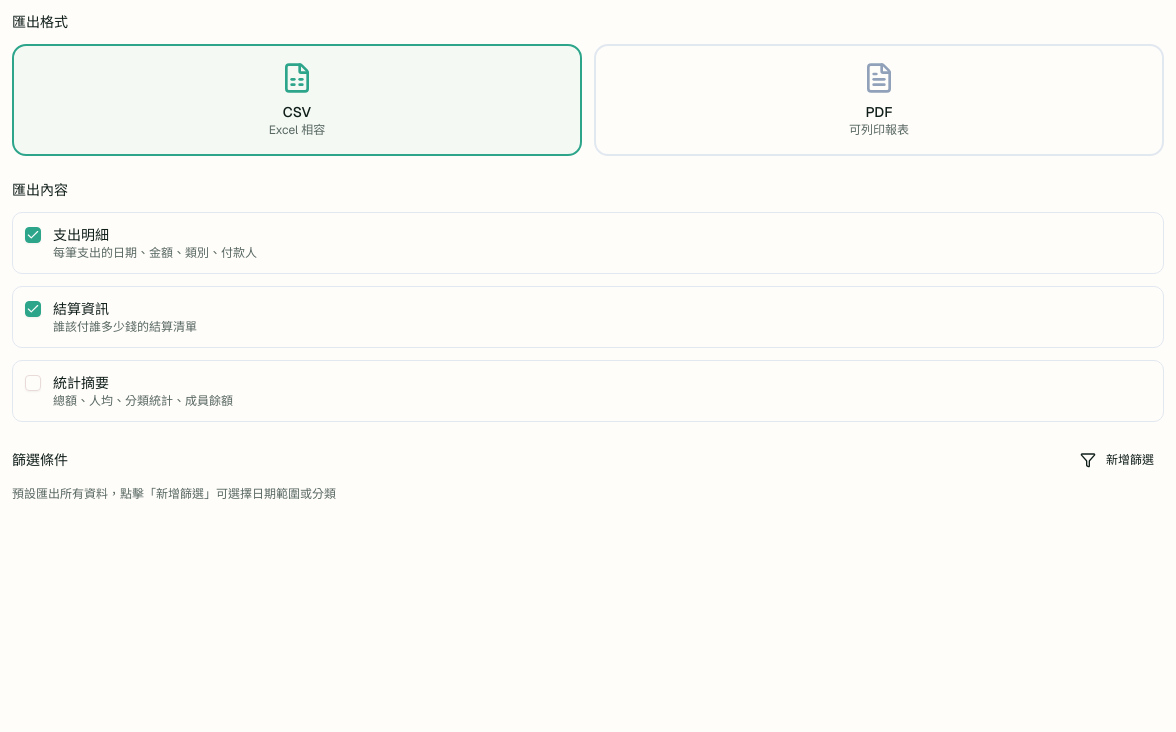
Test: ExportOptionsForm Component › filter options › should show filter panel when 新增篩選 is clicked
Click the button "新增篩選".
click(1117, 460)  # box [1070,446,1164,474]
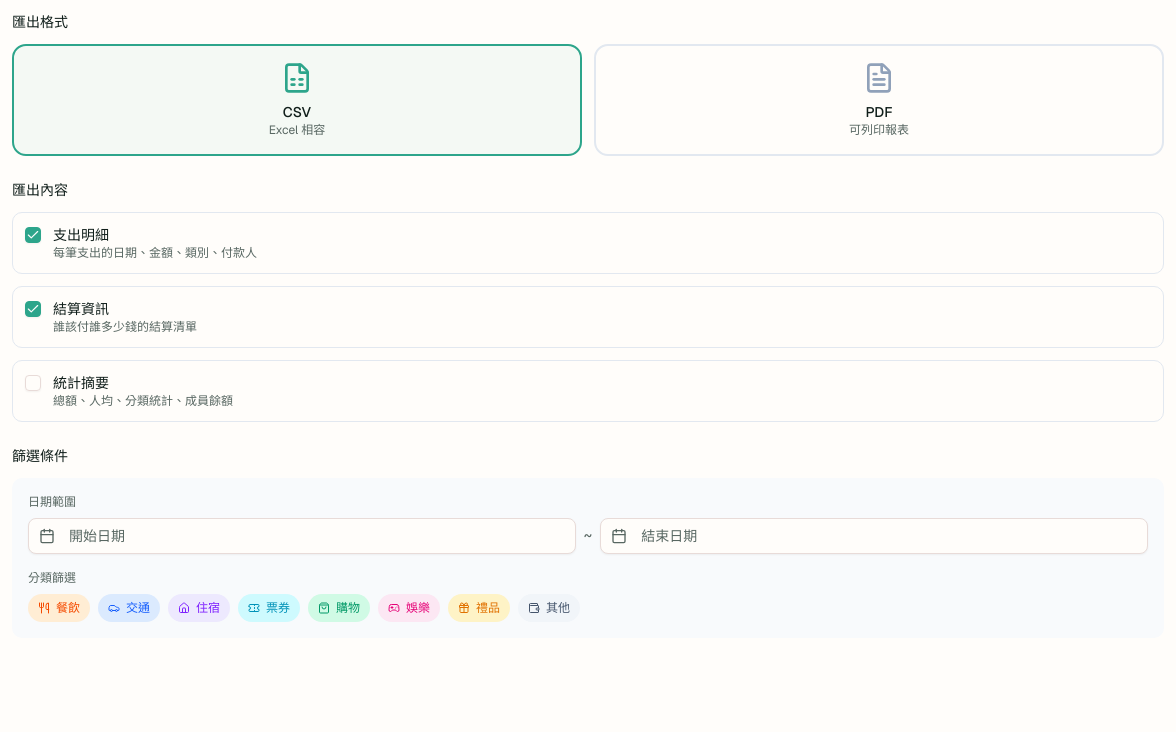
expect the text "日期範圍" is shown: met, box [28,494,76,510]
expect the text "分類篩選" is shown: met, box [28,570,76,586]
